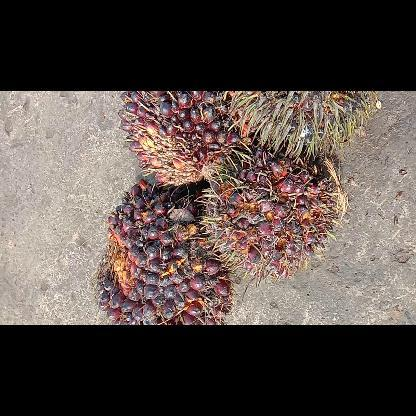Kurang masak: (202, 151, 344, 275), (116, 91, 252, 183)
TBS abnormal: (227, 92, 379, 156)
TBS masak: (94, 180, 232, 322)
